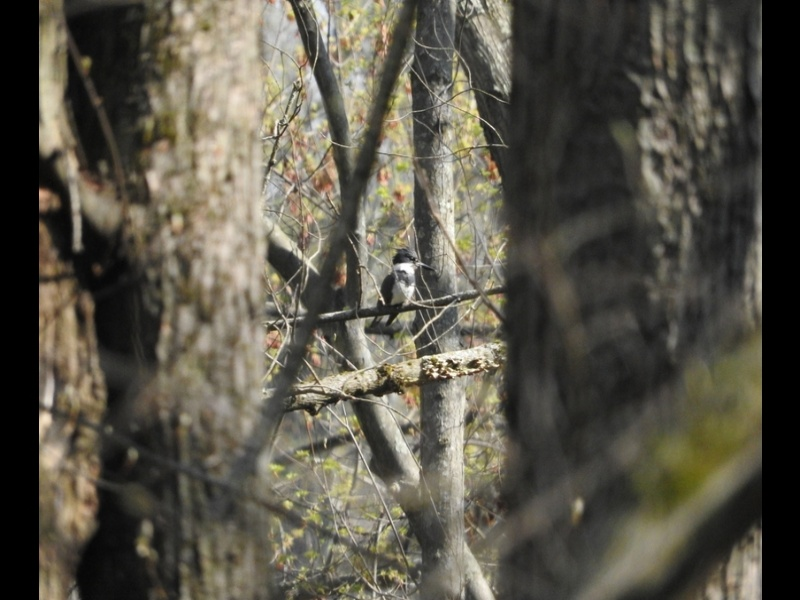kingfisher: (368, 247, 434, 333)
